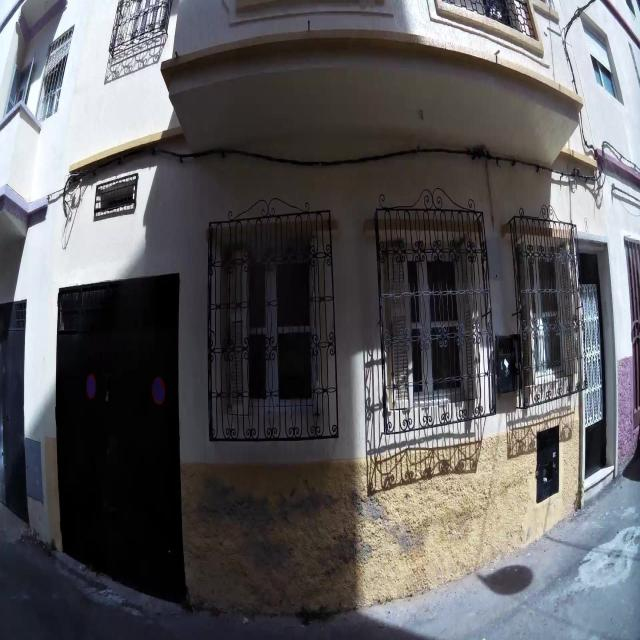forb_stopping: (86, 372, 96, 400)
forb_waiting: (152, 379, 165, 404)
